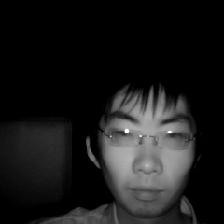normal: (82, 69, 203, 220)
